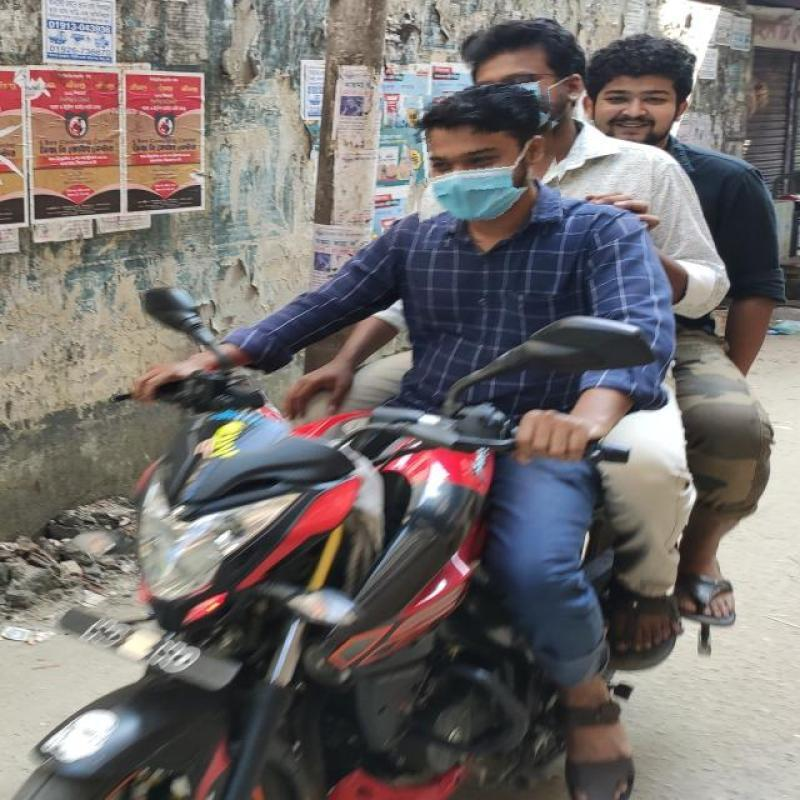nohelmet: (408, 84, 561, 245), (587, 30, 703, 138)
